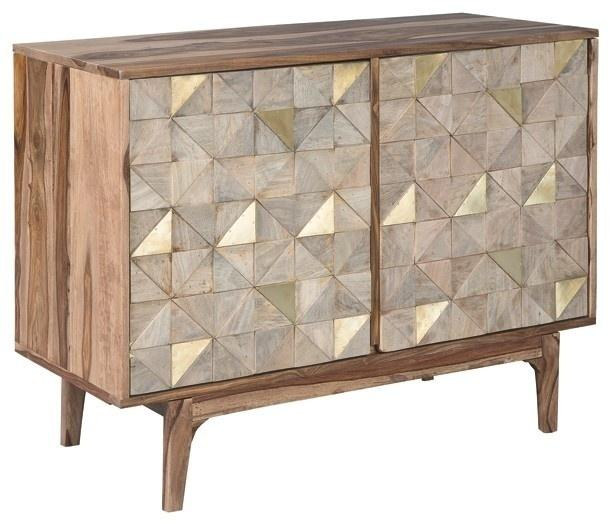cabinet_door: (128, 68, 380, 379), (373, 55, 588, 347)
